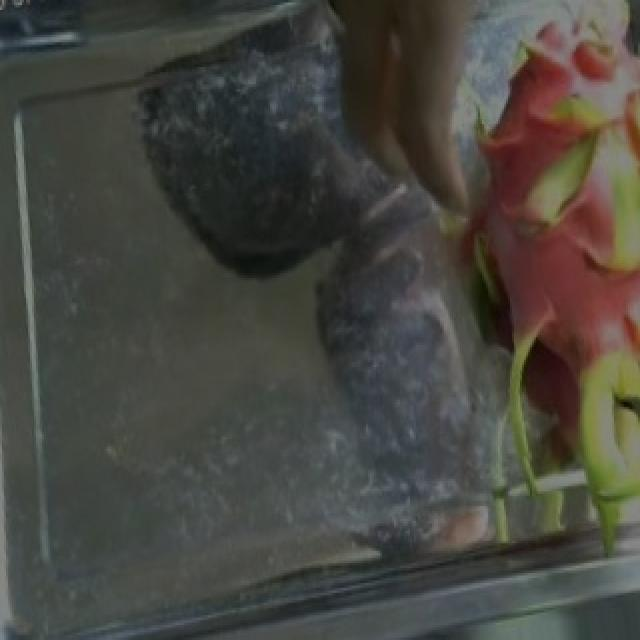fruit: (362, 146, 640, 578)
